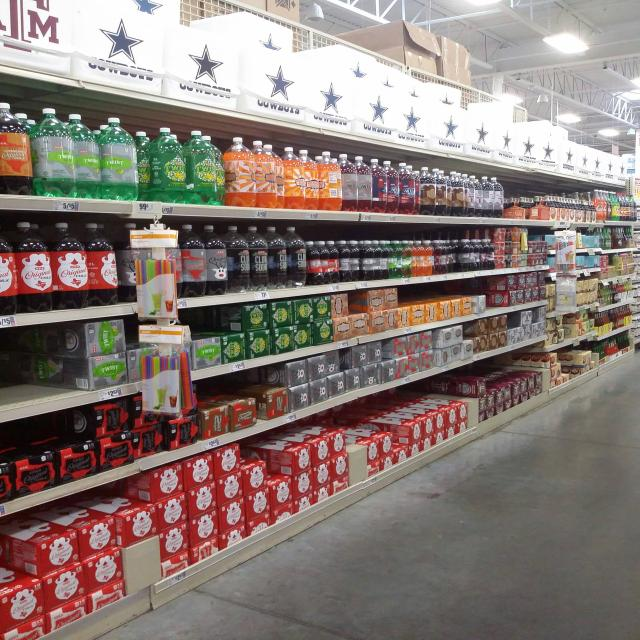empty: (1, 331, 90, 408)
